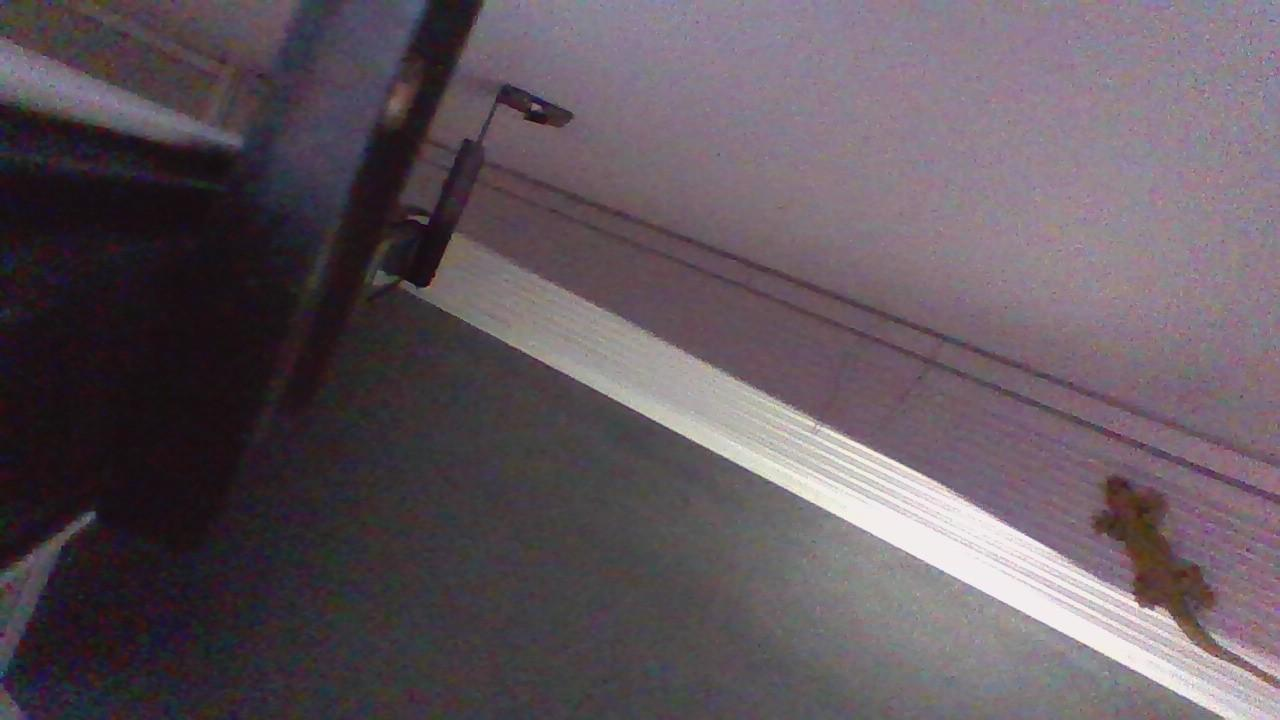lizard: (1080, 459, 1280, 695)
